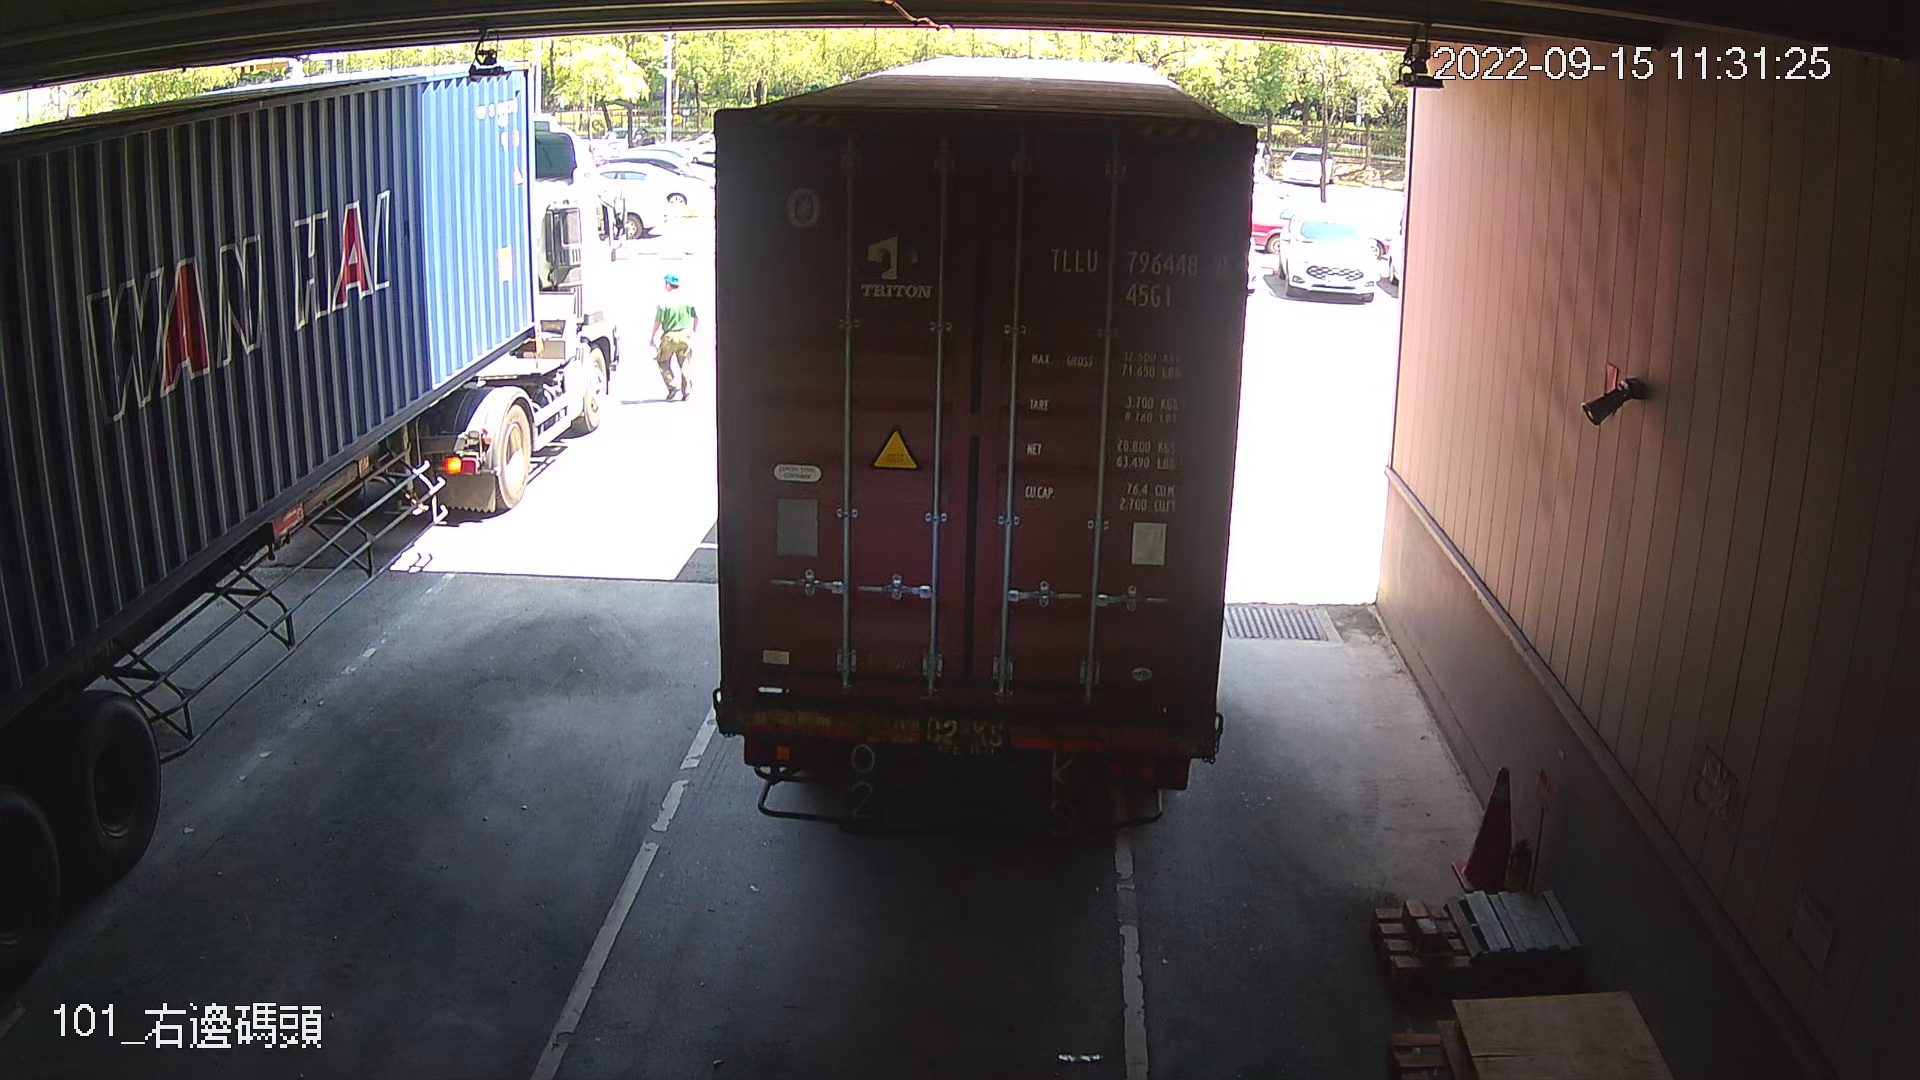container: (1038, 237, 1237, 319)
